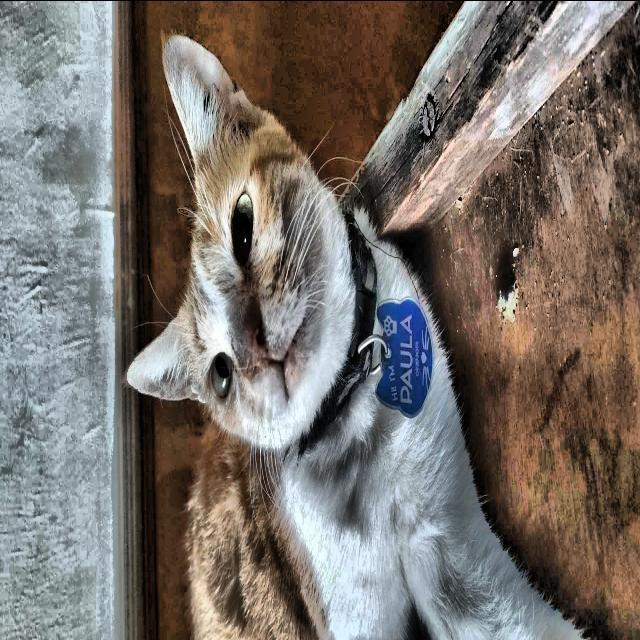Healthy skin: (230, 482, 339, 606), (120, 281, 204, 439), (266, 195, 342, 352)
